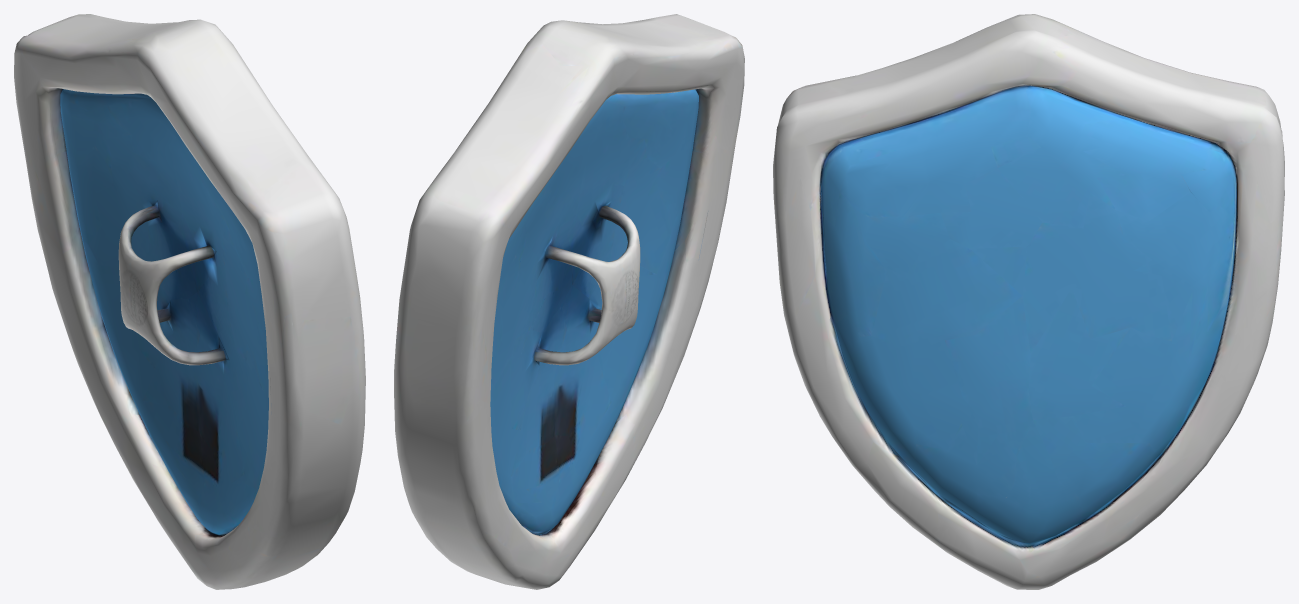
File: shield.glb
The picture shows the model from 3 angles, left to right: view 1: azimuth 30°, elevation 25°; view 2: azimuth 150°, elevation 25°; view 3: azimuth 270°, elevation 25°; orthographic projection. The views are drawn at different scales.
Visible parts, largest first — view 1: tripo_node_57325955-2932-4fb9-81e0-554990985524; view 2: tripo_node_57325955-2932-4fb9-81e0-554990985524; view 3: tripo_node_57325955-2932-4fb9-81e0-554990985524.
Part boxes in pixels (box(x1,y1,x2,y2)): tripo_node_57325955-2932-4fb9-81e0-554990985524: box(14, 14, 365, 589); tripo_node_57325955-2932-4fb9-81e0-554990985524: box(394, 14, 744, 589); tripo_node_57325955-2932-4fb9-81e0-554990985524: box(773, 14, 1284, 589).
Bounding box in the file's own units: 0.2765 × 0.9793 × 0.848.
Materials: 1 (1 with a texture image).
